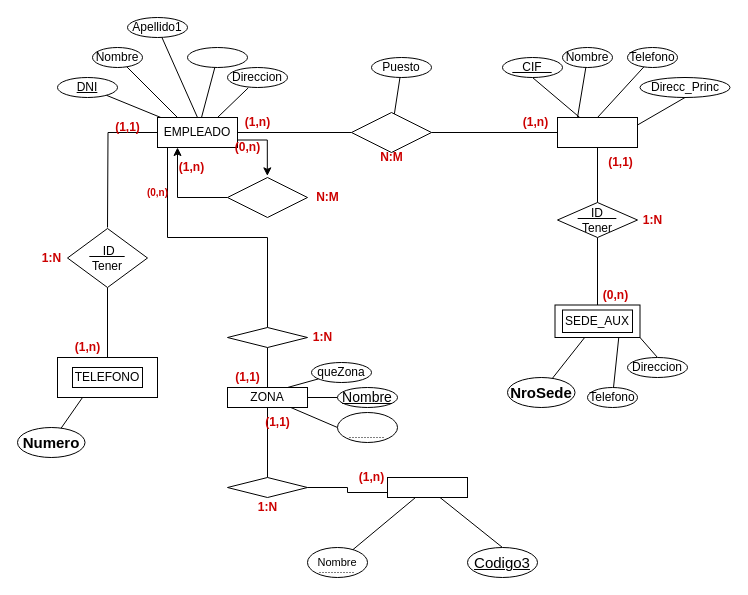
This 748x595 diagram has some shape labels left out. The shapes that lost their labels are listed below. From the top down, each one's centre as x and y in pixels, then its label:
the point at 217,57: Apellido2
the point at 391,132: Trabajar
the point at 597,132: EMPRESA
the point at 267,197: Ser_Acogido
the point at 267,337: Estar
the point at 367,427: Codigo
the point at 267,487: Acoger
the point at 427,487: PROVINCIA
